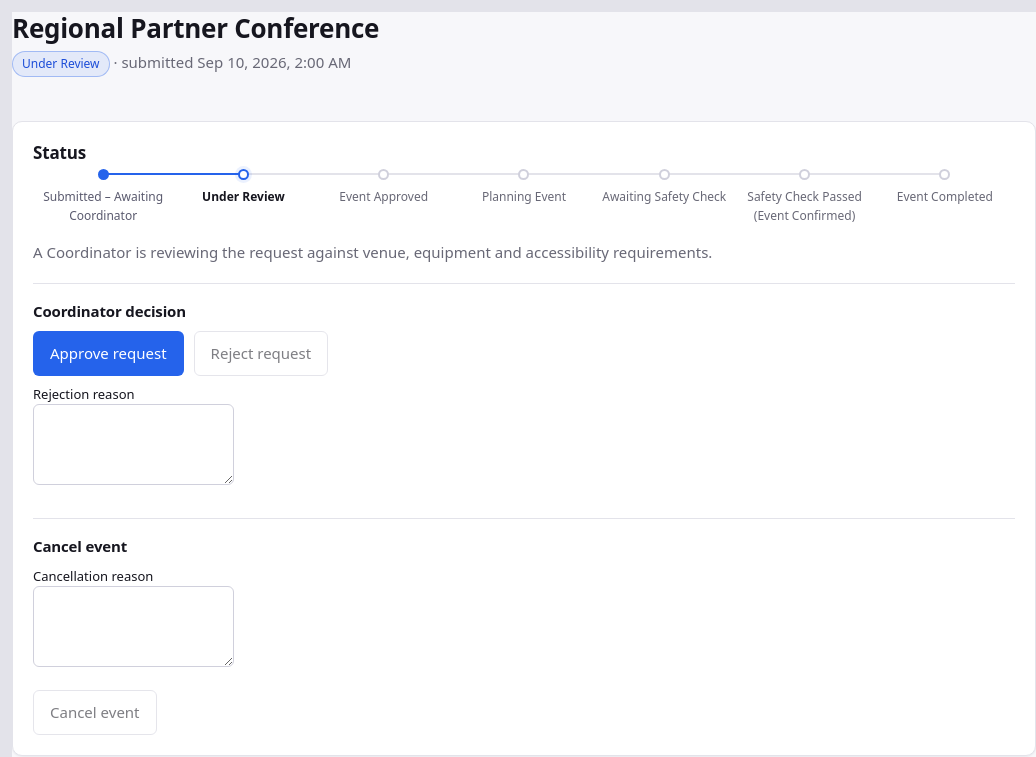
Test case: Cancel Event › shows a useful error when the cancellation is refused
Type "No longer proceeding." into the text box labelled "Cancellation reason" at {"x": 134, "y": 626}, box [33, 586, 234, 666]
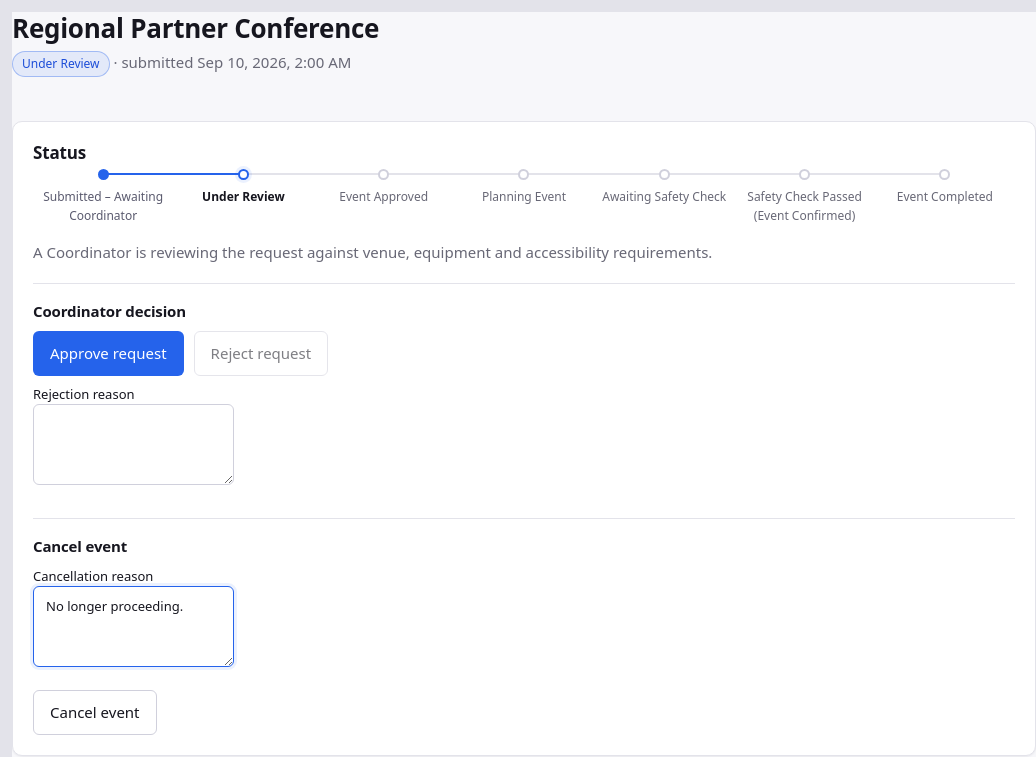
Click the button "Cancel event" at {"x": 95, "y": 712}, box [33, 690, 156, 735]
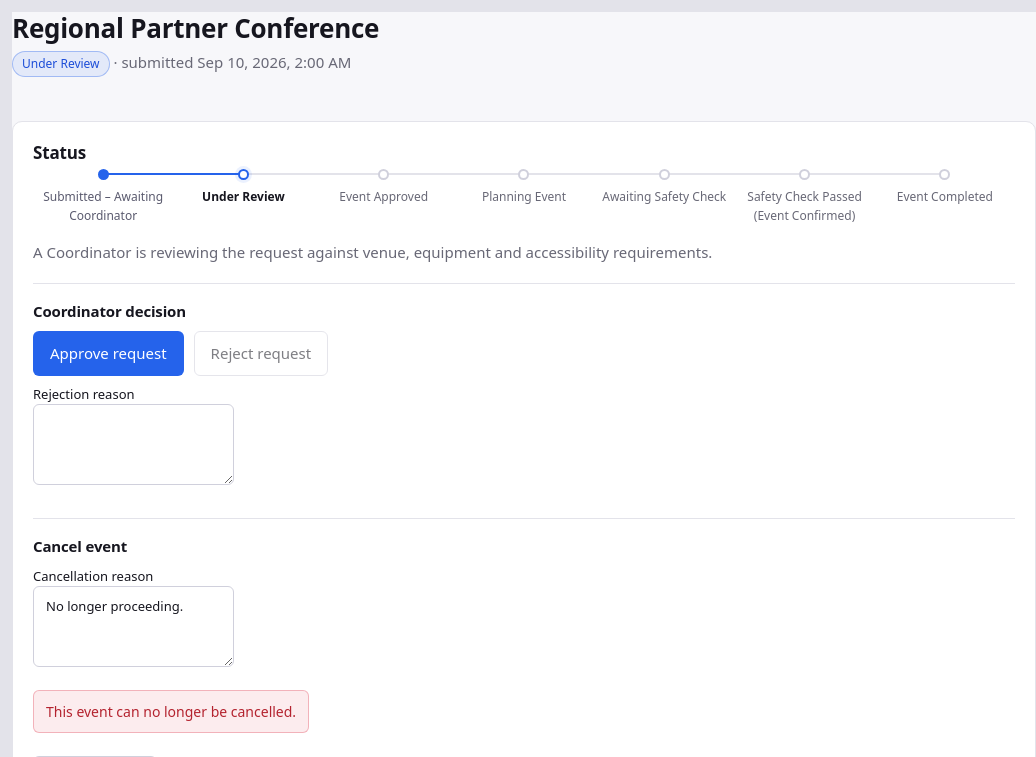
expect the text "This event can no longer be cancelled." is shown: met, box [33, 690, 309, 733]
